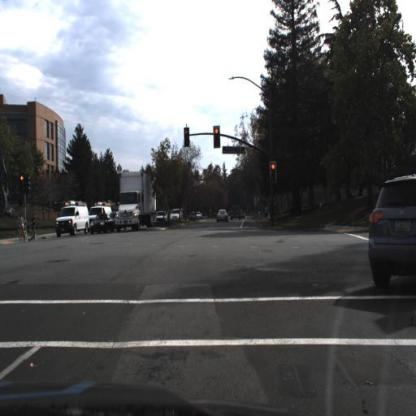biker: (17, 214, 31, 243), (18, 214, 25, 241), (33, 210, 37, 239)
car: (368, 174, 416, 309), (54, 204, 91, 235), (90, 203, 116, 228), (90, 213, 113, 233), (215, 207, 231, 225), (169, 207, 184, 222), (156, 210, 170, 225), (189, 207, 200, 223), (171, 209, 183, 221)
pedestrian: (30, 208, 40, 242), (115, 199, 125, 230), (7, 212, 15, 243), (31, 211, 39, 242)
trafficLight-Red: (212, 123, 222, 150), (269, 159, 279, 186)
trafficLight-RedLeft: (16, 172, 27, 197), (184, 124, 192, 149)
truck: (116, 172, 158, 233), (57, 202, 91, 237), (87, 202, 111, 226)
